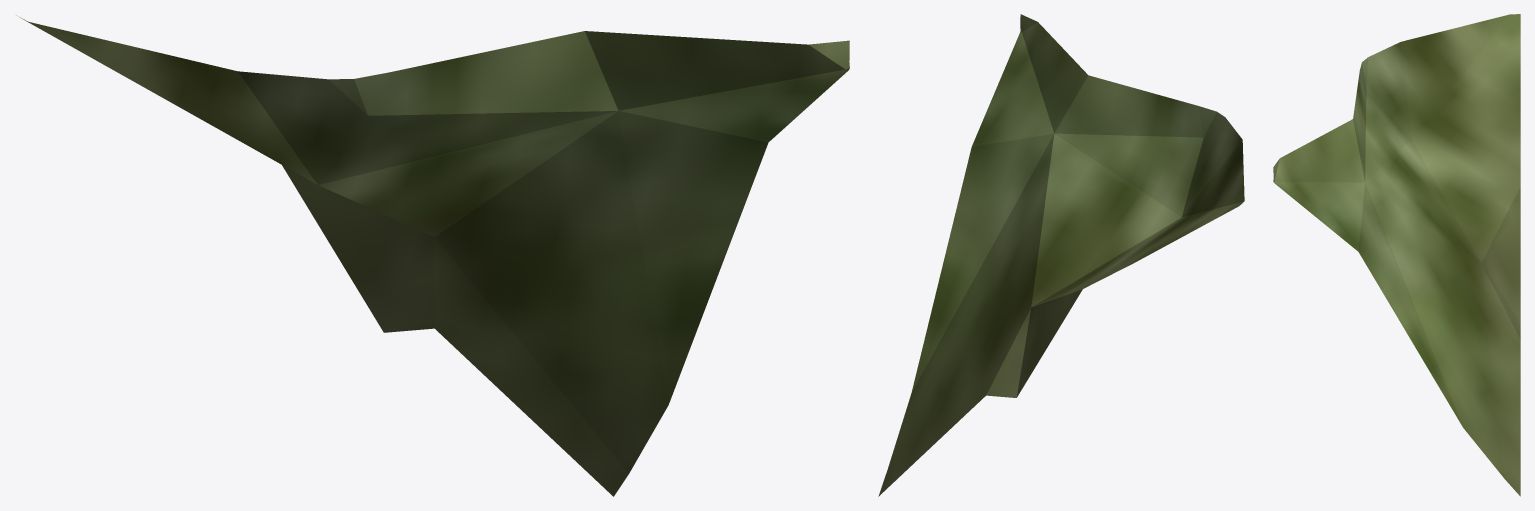
The picture shows the model from 3 angles, left to right: view 1: azimuth 30°, elevation 25°; view 2: azimuth 150°, elevation 25°; view 3: azimuth 270°, elevation 25°; orthographic projection. The views are drawn at different scales.
Size of the model in its own units: 0.2834 by 0.2842 by 0.1934.
1 material, 1 textured.
